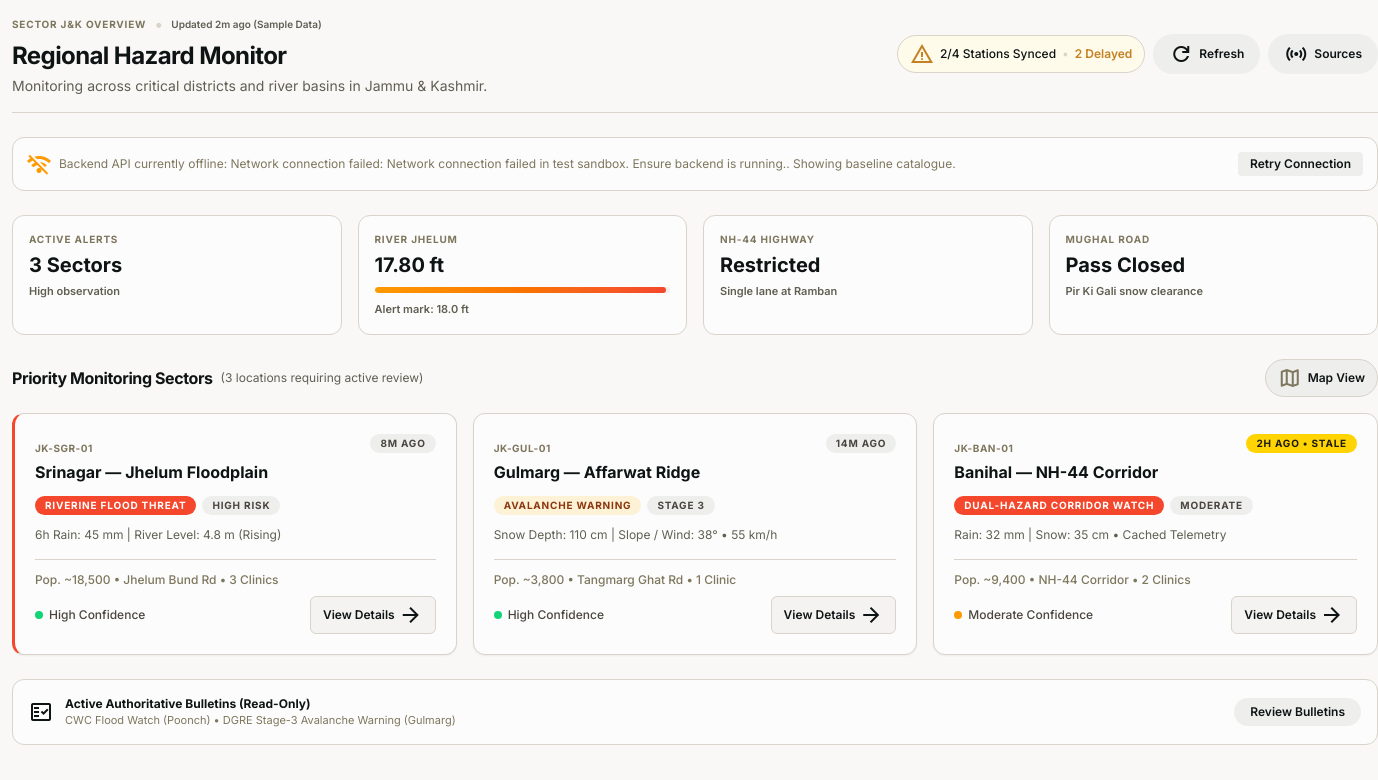
Test: PageSkeleton & Preferences › shows PageSkeleton when clicking Refresh on OverviewPage
Click the button "Refresh" at {"x": 1207, "y": 54}, box [1153,34,1260,74]
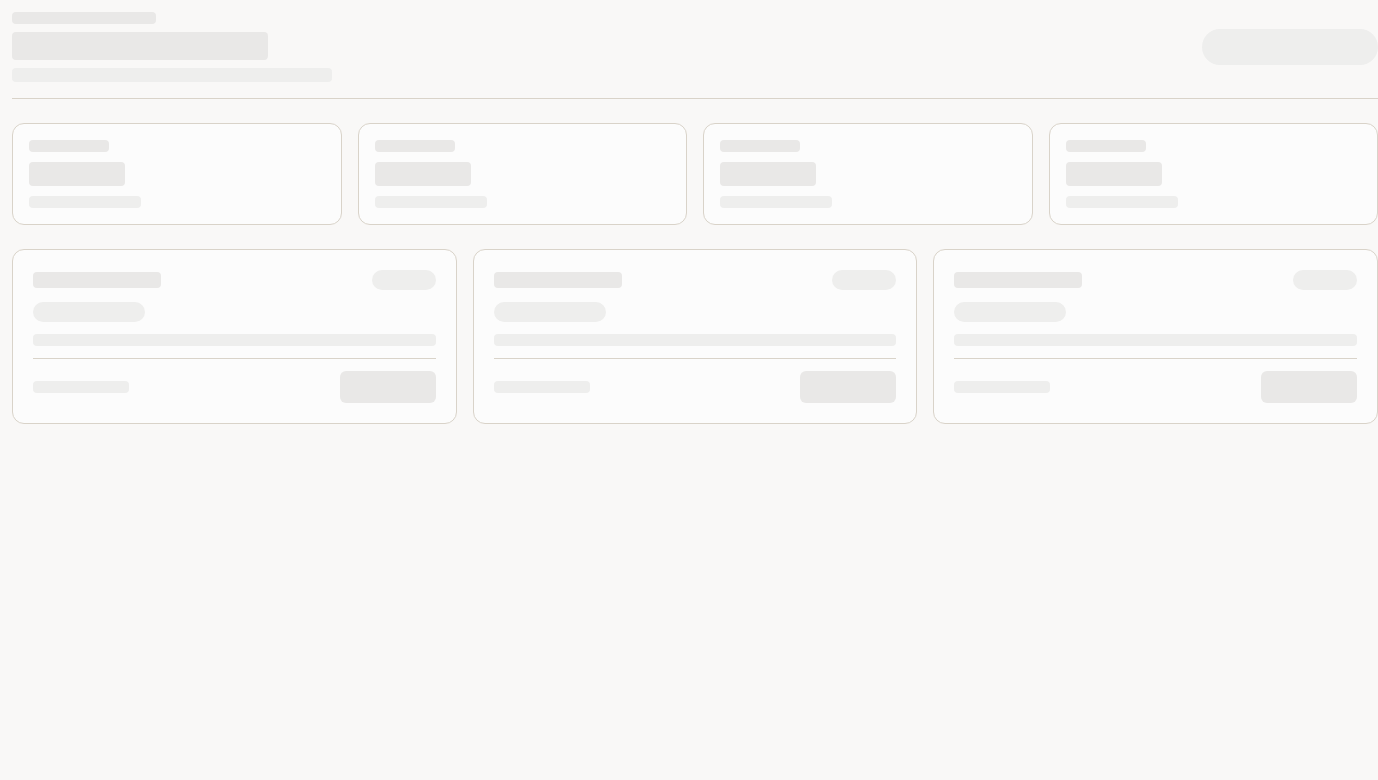
expect the message named "Loading screen" is shown: met, box [12,12,1377,424]
